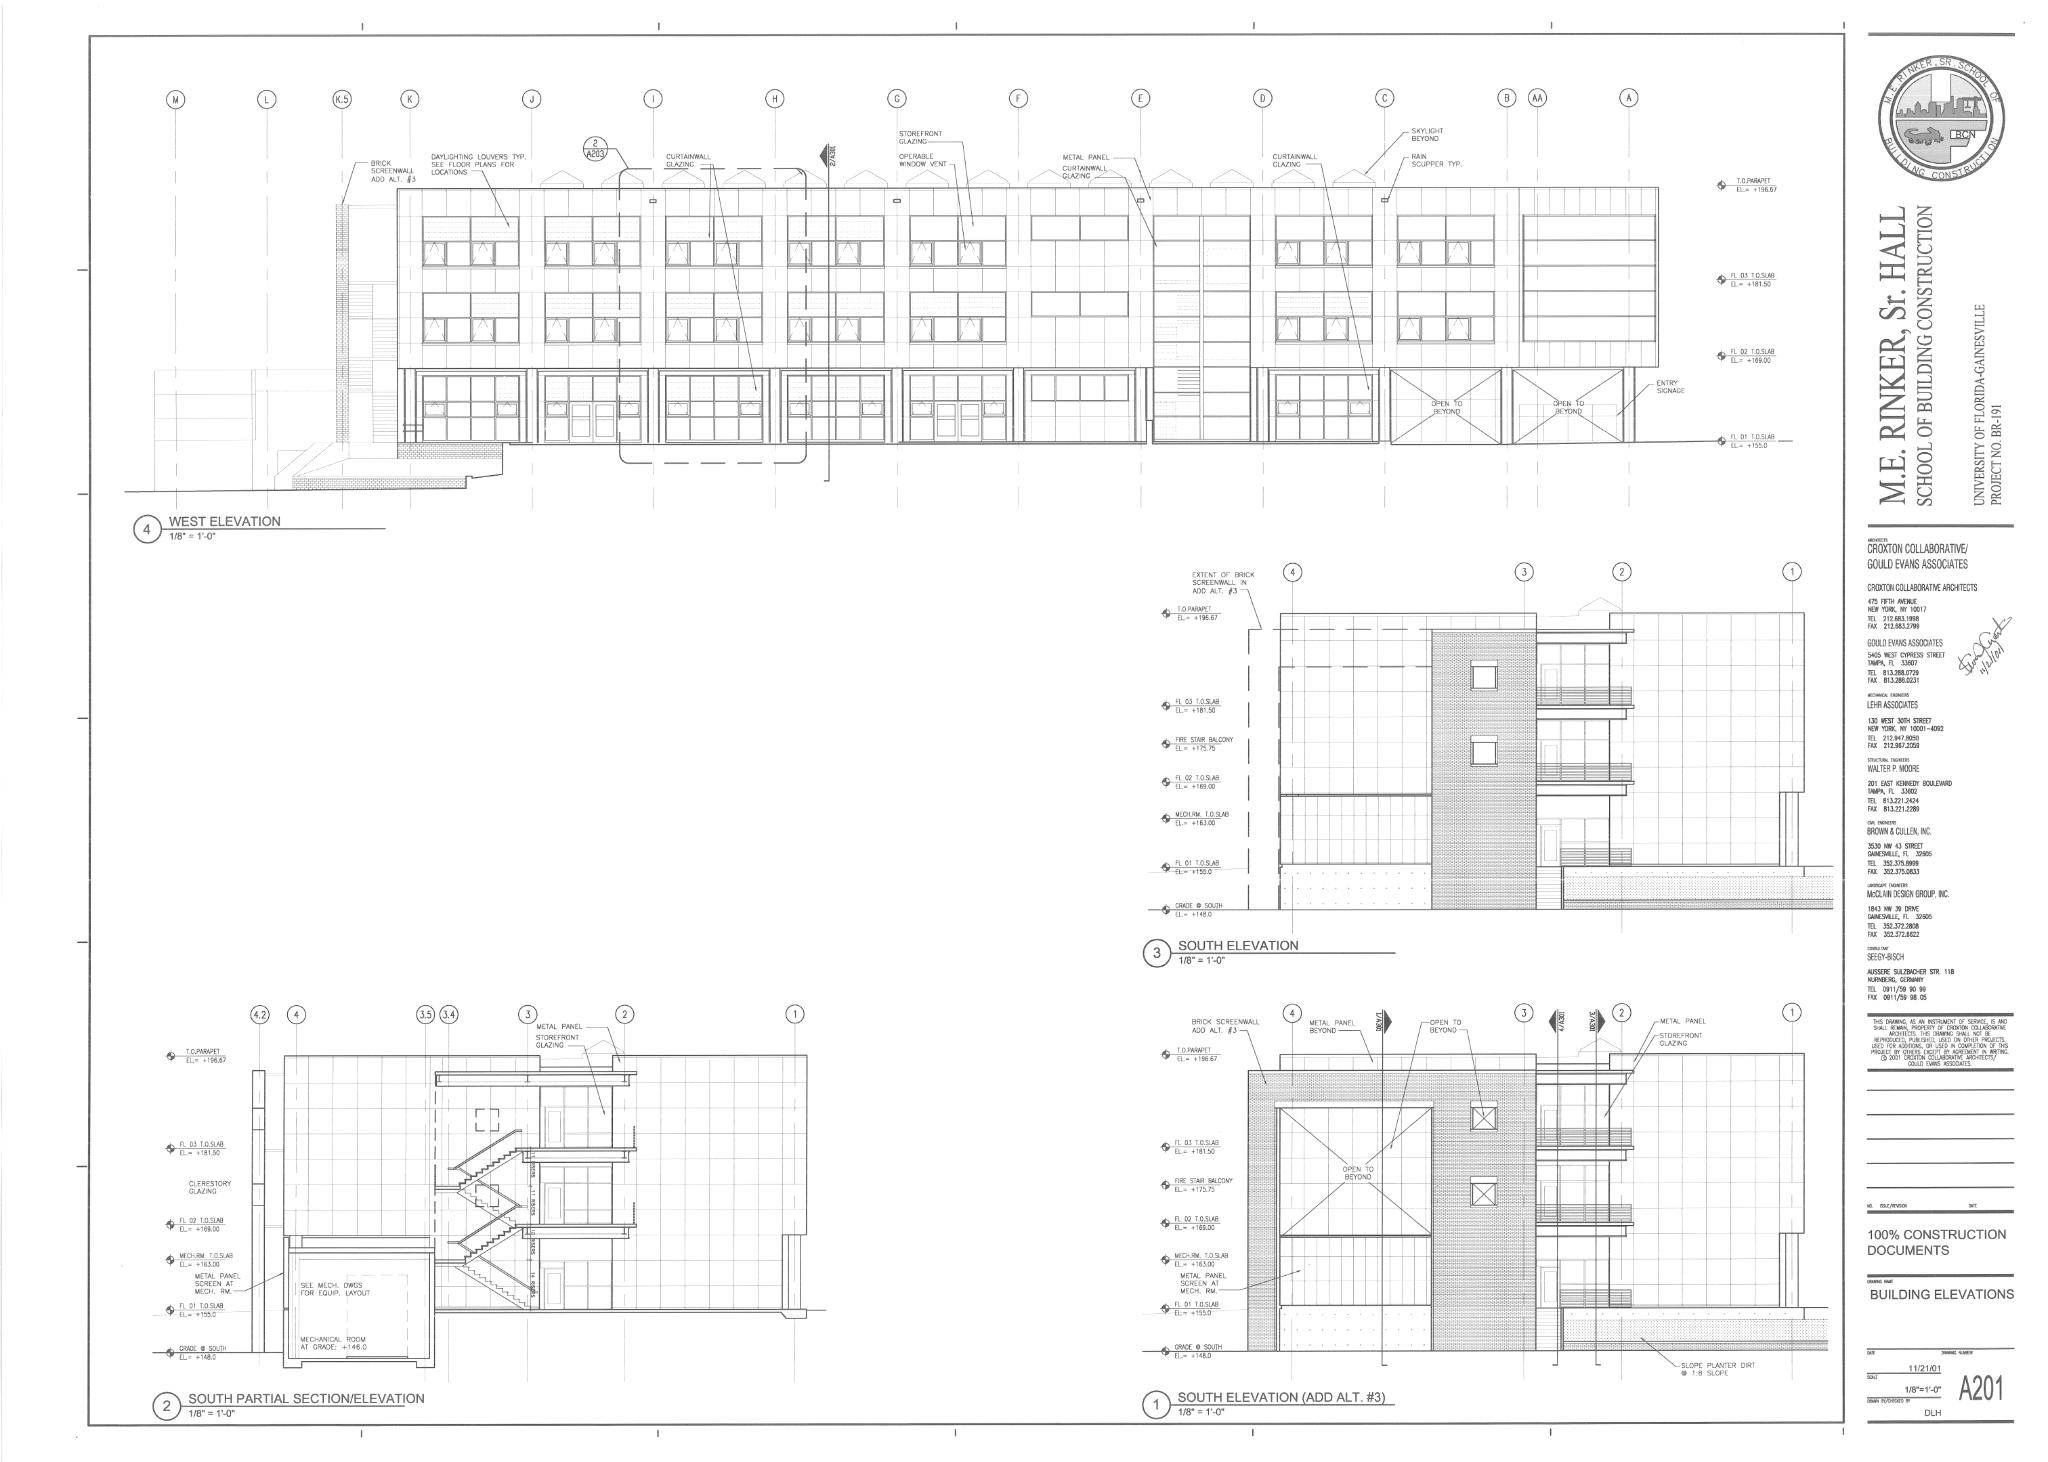detail: (583, 134, 629, 169)
elevation: (1374, 1008, 1393, 1369), (1548, 1007, 1566, 1368), (1588, 1007, 1606, 1368), (819, 140, 837, 484)
title: (151, 1391, 427, 1423), (1140, 1388, 1398, 1422)
